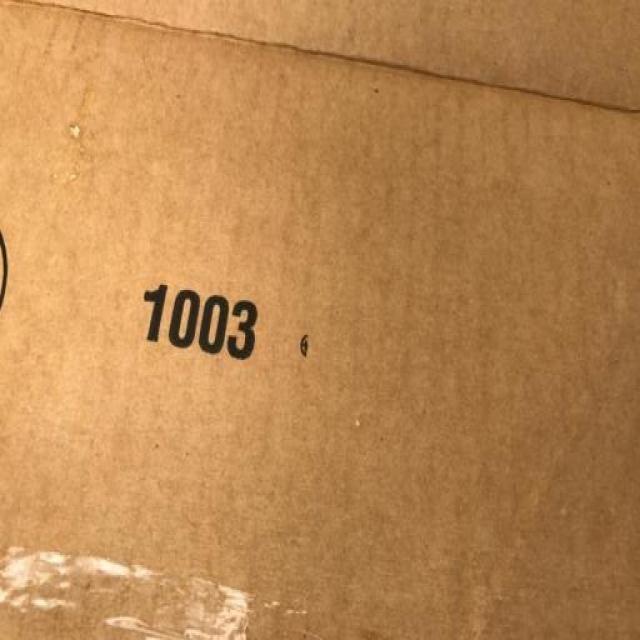cardboard paper: (1, 6, 639, 639)
